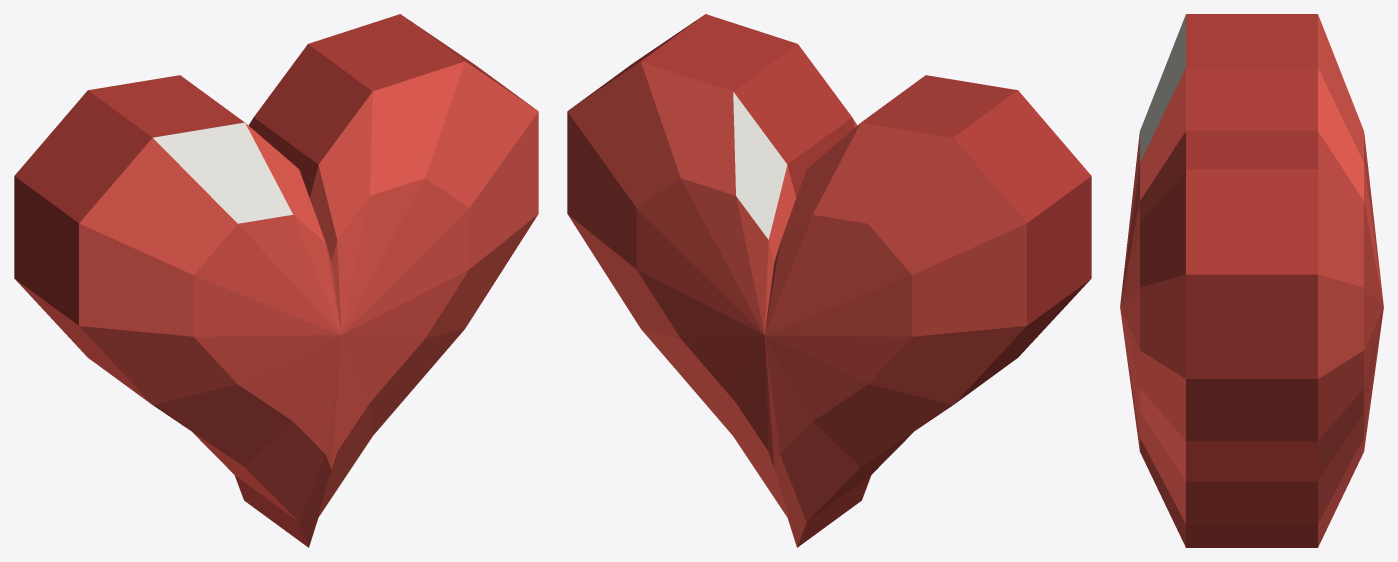
File: C_Heart.fbx
3 views of the same model, side by side, from view 1: azimuth 30°, elevation 25°; view 2: azimuth 150°, elevation 25°; view 3: azimuth 270°, elevation 25° (orthographic).
Visible parts, largest first — view 1: C_Heart; view 2: C_Heart; view 3: C_Heart.
Part boxes in pixels (<box>): C_Heart: <box>14,14,538,547</box>; C_Heart: <box>567,14,1091,547</box>; C_Heart: <box>1120,14,1383,547</box>.
Size of the model in its own units: 0.5731 by 0.5344 by 0.28.
